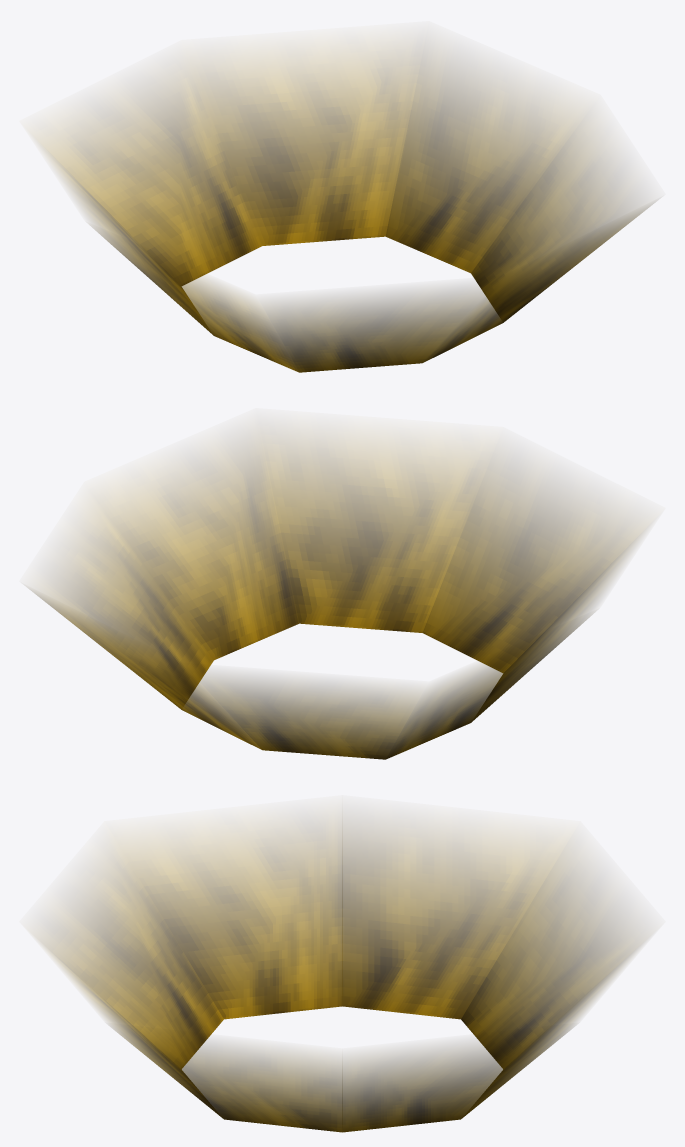
File: floor_glow.glb
3 renders of one model, top to bottom at view 1: azimuth 30°, elevation 25°; view 2: azimuth 150°, elevation 25°; view 3: azimuth 270°, elevation 25°, orthographic.
Visible parts, largest first — view 1: Cube; view 2: Cube; view 3: Cube.
Boxes of the visible parts, x1,y1,x2,y2 form: Cube: (39, 48, 655, 372); Cube: (29, 435, 645, 759); Cube: (40, 814, 644, 1132).
Bounding box in the file's own units: 37.9 × 10.47 × 40.91.
Materials: 1 (1 with a texture image).
